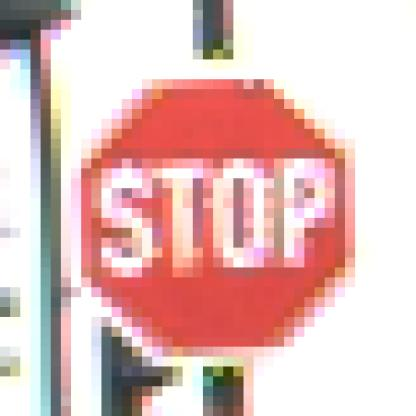Stop: (72, 76, 356, 354)
